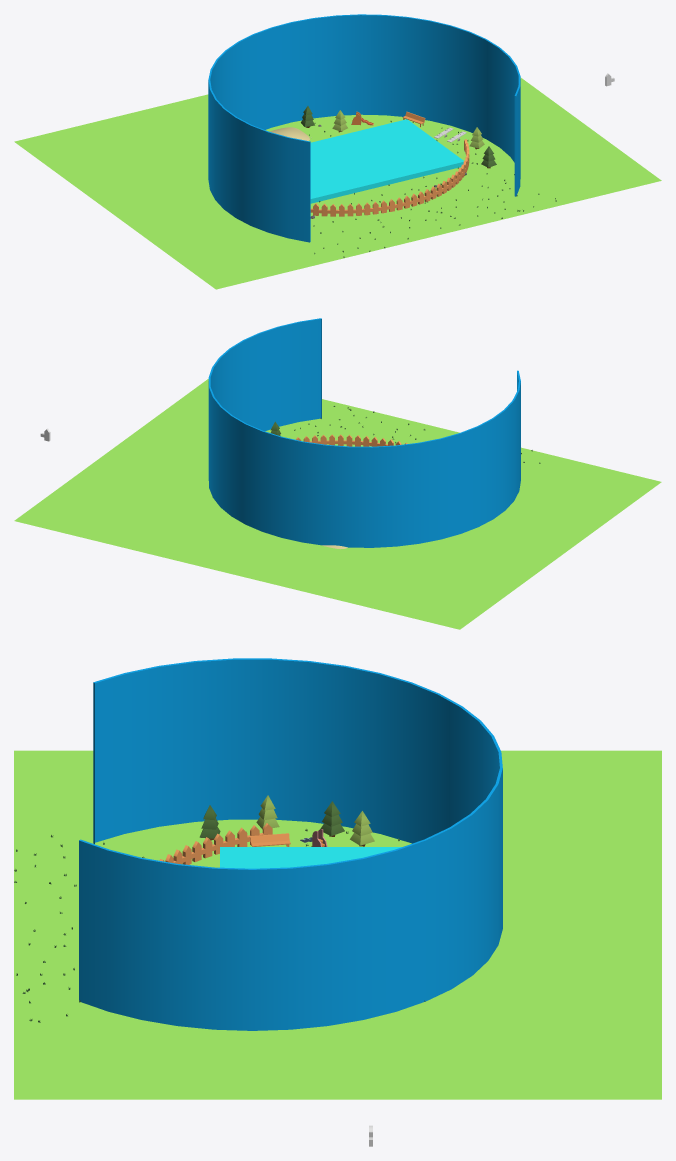
Rendered from background.FBX.
The picture shows the model from 3 angles, top to bottom: view 1: azimuth 30°, elevation 25°; view 2: azimuth 150°, elevation 25°; view 3: azimuth 270°, elevation 25°; orthographic projection. The views are drawn at different scales.
Parts seen in each view (by area): view 1: Plane001, Cylinder001, Box003, Box022; view 2: Plane001, Cylinder001, Box022; view 3: Cylinder001, Plane001, Box003, Box022.
Part boxes in pixels (x1=…): Plane001: x1=14, y1=77, x2=661, y2=289; Cylinder001: x1=208, y1=14, x2=520, y2=242; Box003: x1=310, y1=119, x2=463, y2=203; Box022: x1=310, y1=139, x2=469, y2=216; Plane001: x1=14, y1=379, x2=661, y2=629; Cylinder001: x1=208, y1=318, x2=520, y2=547; Box022: x1=296, y1=434, x2=407, y2=446; Cylinder001: x1=79, y1=658, x2=502, y2=1030; Plane001: x1=14, y1=750, x2=661, y2=1099; Box003: x1=220, y1=847, x2=401, y2=868; Box022: x1=159, y1=823, x2=272, y2=864.
Size of the model in its own units: 850 by 170 by 584.
